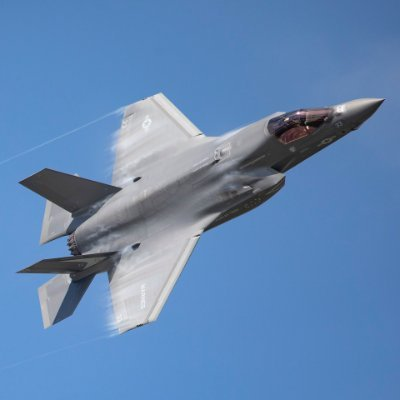F-35 Lightning: (16, 69, 395, 346)
